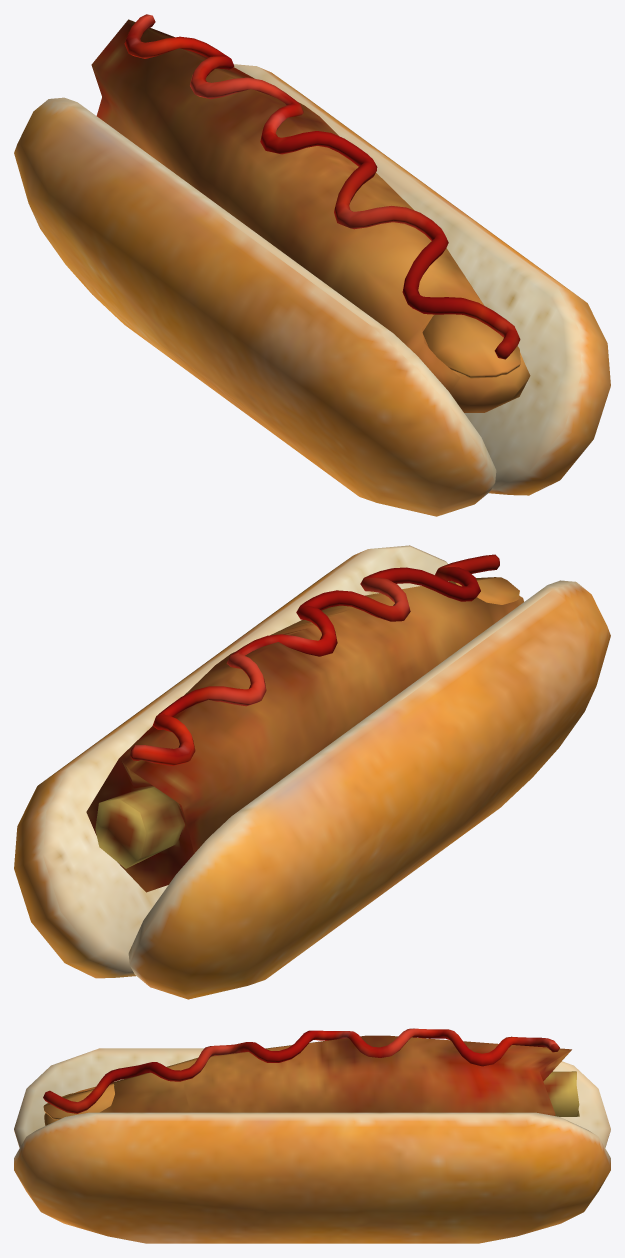
The model's file is human_hotdog_2.fbx.
3 views of the same model, one above another, from view 1: azimuth 30°, elevation 25°; view 2: azimuth 150°, elevation 25°; view 3: azimuth 270°, elevation 25° (orthographic). The views are drawn at different scales.
Parts seen in each view (by area): view 1: human_hotdog_2; view 2: human_hotdog_2; view 3: human_hotdog_2.
Part boxes in pixels (x1,y1,x2,y2): human_hotdog_2: (14, 14, 610, 516); human_hotdog_2: (14, 545, 610, 999); human_hotdog_2: (14, 1028, 610, 1243).
Bounding box in the file's own units: 7.19 × 6.34 × 18.
